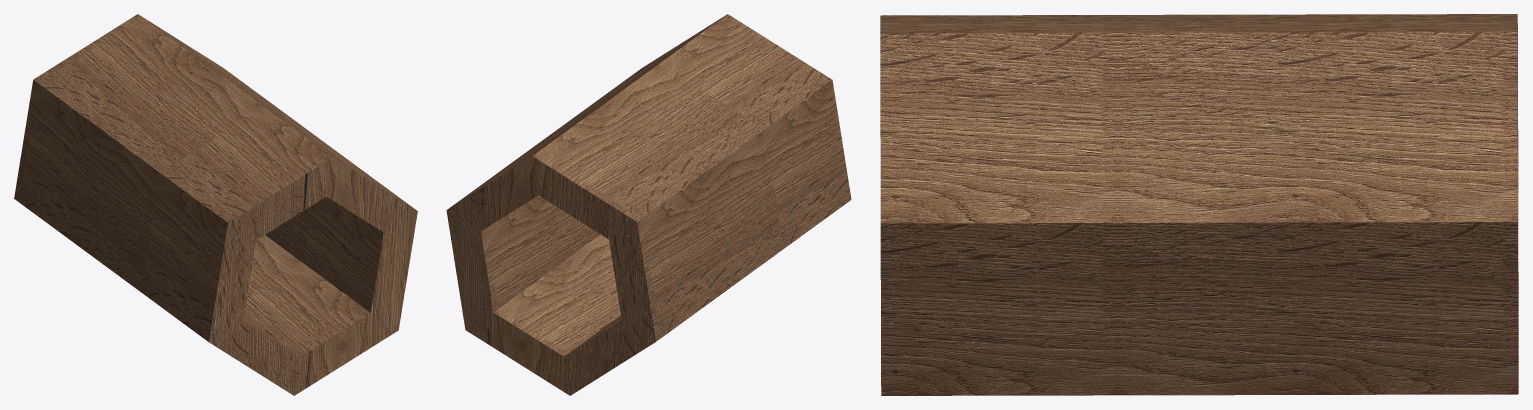
The model's file is тест.dae.
The picture shows the model from 3 angles, left to right: view 1: azimuth 30°, elevation 25°; view 2: azimuth 150°, elevation 25°; view 3: azimuth 270°, elevation 25°; orthographic projection. The views are drawn at different scales.
Parts seen in each view (by area): view 1: Профиль9; view 2: Профиль9; view 3: Профиль9.
Part boxes in pixels (box(x1,y1,x2,y2)): Профиль9: box(14, 14, 417, 395); Профиль9: box(446, 14, 851, 395); Профиль9: box(880, 14, 1518, 395).
Size of the model in its own units: 1972 by 3190 by 2078.
1 material, 1 textured.
